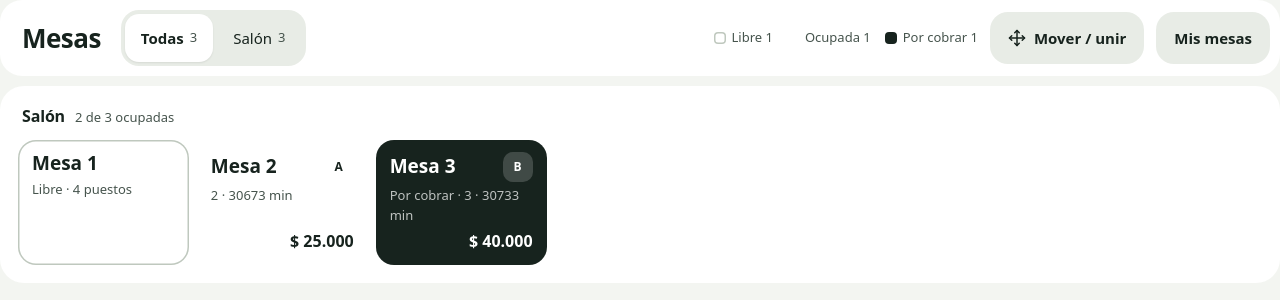
Test: TablesPage › «Mis mesas» deja las que abrió quien está identificado, más las libres
Expected: the button with aria-label "mesa 3, por cobrar" is shown, [376, 140, 547, 265]
Click the button "Mis mesas".
click(1213, 38)  # box [1156, 12, 1270, 64]
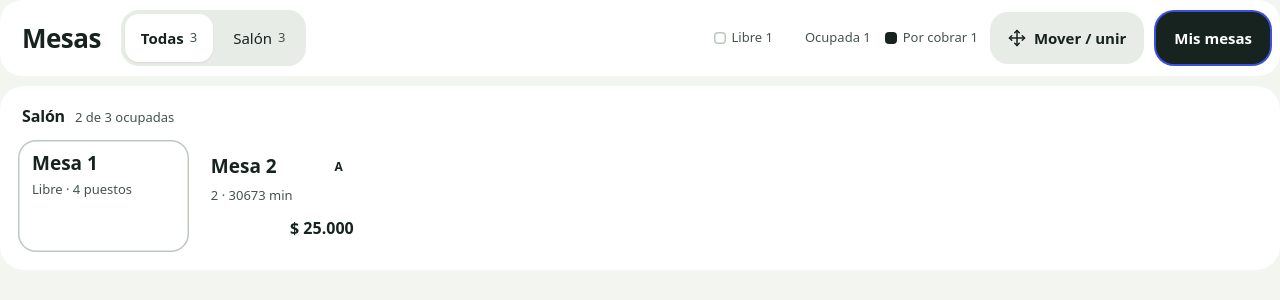
Expected: the button with aria-label "mesa 1, libre" is shown, [18, 140, 189, 252]
Expected: the button "Mesa 3" is gone
